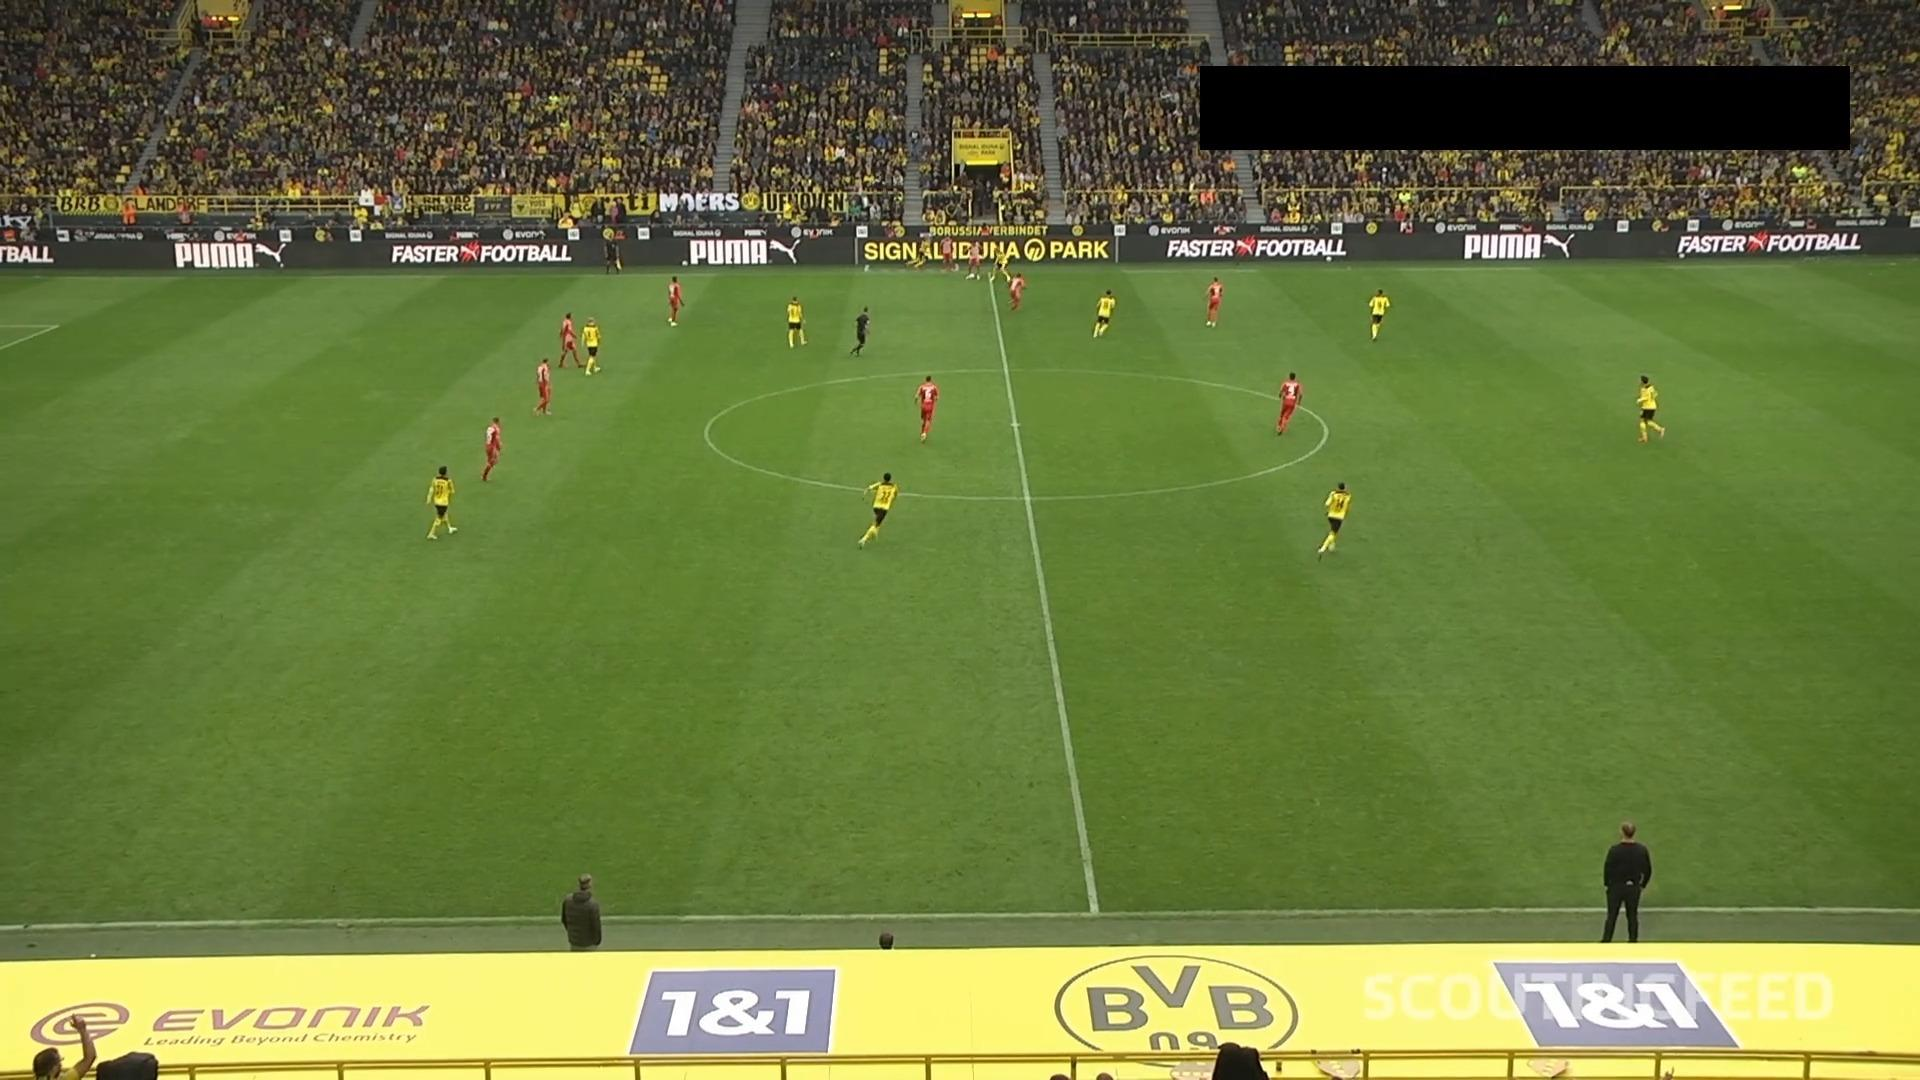ball: (967, 270, 976, 280)
